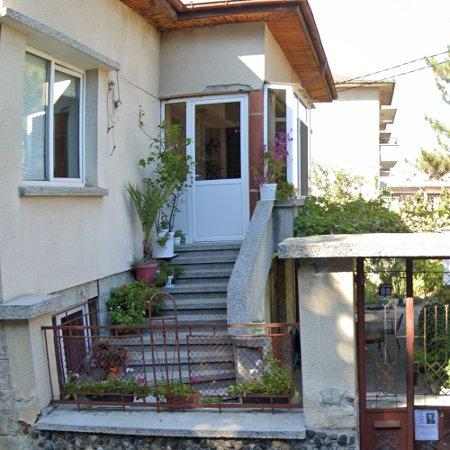stairs: (99, 243, 240, 392)
